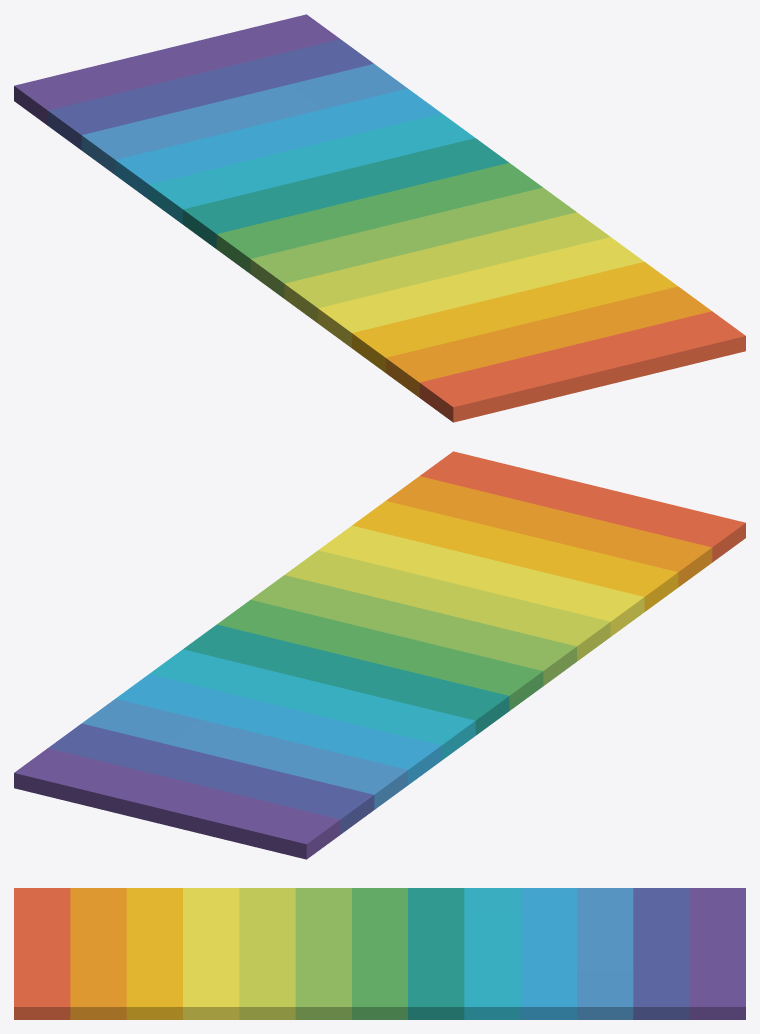
The model's file is Endless.fbx.
The picture shows the model from 3 angles, top to bottom: view 1: azimuth 30°, elevation 25°; view 2: azimuth 150°, elevation 25°; view 3: azimuth 270°, elevation 25°; orthographic projection. The views are drawn at different scales.
Parts seen in each view (by area): view 1: Rainbow1, Rainbow12, Rainbow2, Rainbow6, Rainbow11, Rainbow7, Rainbow10, Rainbow5, Rainbow9, Rainbow13, Rainbow3, Rainbow4 (+1 smaller); view 2: Rainbow13, Rainbow2, Rainbow3, Rainbow8, Rainbow12, Rainbow7, Rainbow4, Rainbow9, Rainbow1, Rainbow5, Rainbow11, Rainbow6 (+1 smaller); view 3: Rainbow1, Rainbow2, Rainbow3, Rainbow4, Rainbow5, Rainbow6, Rainbow8, Rainbow9, Rainbow10, Rainbow11, Rainbow12, Rainbow13 (+1 smaller).
Part boxes in pixels (<box>): Rainbow1: <box>419,311,745,422</box>; Rainbow12: <box>47,39,373,150</box>; Rainbow2: <box>385,286,711,397</box>; Rainbow6: <box>250,187,576,298</box>; Rainbow11: <box>81,64,407,174</box>; Rainbow7: <box>216,163,542,273</box>; Rainbow10: <box>115,88,441,199</box>; Rainbow5: <box>284,212,610,323</box>; Rainbow9: <box>149,113,474,224</box>; Rainbow13: <box>14,14,339,125</box>; Rainbow3: <box>352,261,677,372</box>; Rainbow4: <box>318,237,643,347</box>; Rainbow13: <box>14,748,340,859</box>; Rainbow2: <box>386,476,712,587</box>; Rainbow3: <box>352,501,678,611</box>; Rainbow8: <box>183,624,509,735</box>; Rainbow12: <box>48,723,374,834</box>; Rainbow7: <box>217,600,543,710</box>; Rainbow4: <box>318,525,644,636</box>; Rainbow9: <box>149,649,475,760</box>; Rainbow1: <box>420,451,745,562</box>; Rainbow5: <box>285,550,610,661</box>; Rainbow11: <box>82,698,407,809</box>; Rainbow6: <box>251,575,576,685</box>; Rainbow1: <box>14,888,70,1019</box>; Rainbow2: <box>70,888,126,1019</box>; Rainbow3: <box>126,888,182,1019</box>; Rainbow4: <box>183,888,239,1019</box>; Rainbow5: <box>239,888,295,1019</box>; Rainbow6: <box>295,888,351,1019</box>; Rainbow8: <box>408,888,464,1019</box>; Rainbow9: <box>464,888,520,1019</box>; Rainbow10: <box>520,888,576,1019</box>; Rainbow11: <box>577,888,633,1019</box>; Rainbow12: <box>633,888,689,1019</box>; Rainbow13: <box>689,888,745,1019</box>.
Bounding box in the file's own units: 1000 × 50 × 2600.
